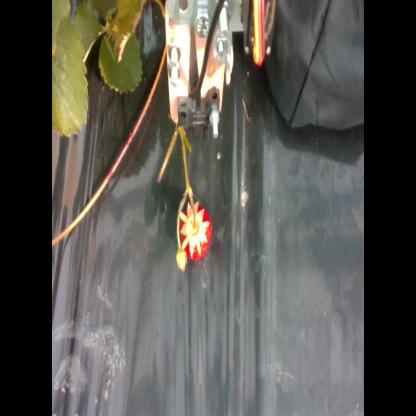ripe: (175, 196, 219, 271)
